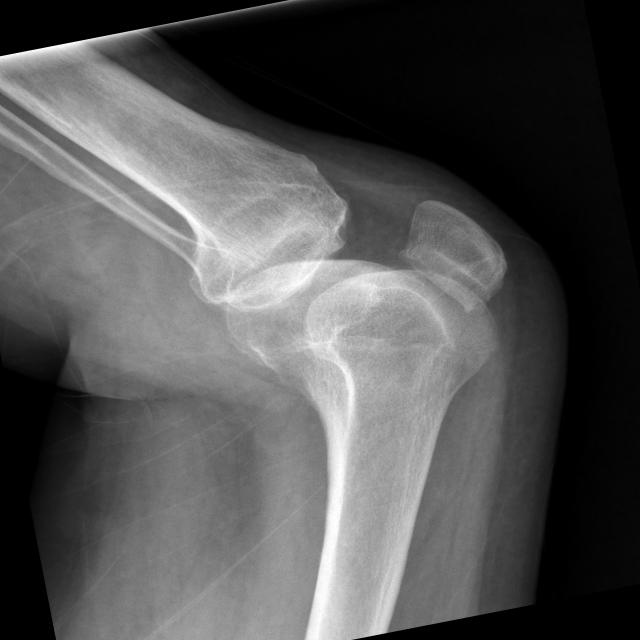Knee: (171, 137, 532, 423)
